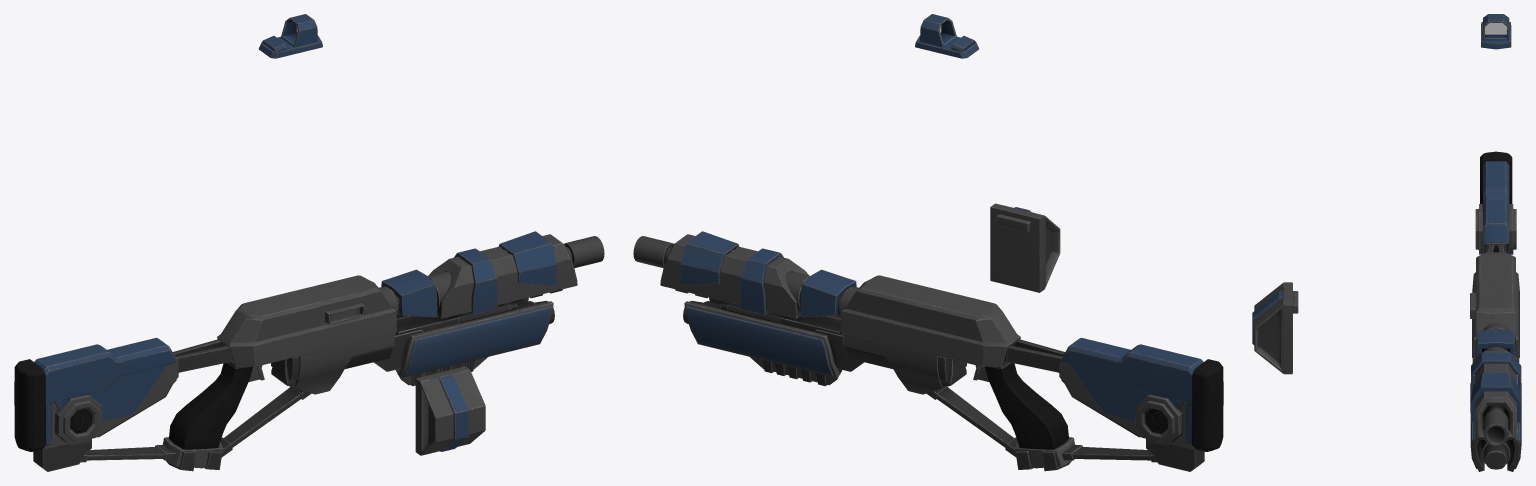
File: SM_BomstickExploded.fbx
3 renders of one model, left to right at view 1: azimuth 30°, elevation 25°; view 2: azimuth 150°, elevation 25°; view 3: azimuth 270°, elevation 25°, orthographic. The views are drawn at different scales.
Visible parts, largest first — view 1: Mesh, Battery, RedDot; view 2: Mesh, Battery, RedDot; view 3: Mesh, Battery, RedDot.
Part boxes in pixels (x1,y1,x2,y2): Mesh: (14, 231, 604, 471); Battery: (325, 303, 485, 455); RedDot: (259, 14, 322, 58); Mesh: (633, 231, 1223, 471); Battery: (990, 203, 1060, 292); RedDot: (915, 14, 978, 58); Mesh: (1470, 151, 1521, 471); Battery: (1252, 282, 1475, 374); RedDot: (1481, 14, 1511, 49).
Bounding box in the file's own units: 81.11 × 34.92 × 56.64.
